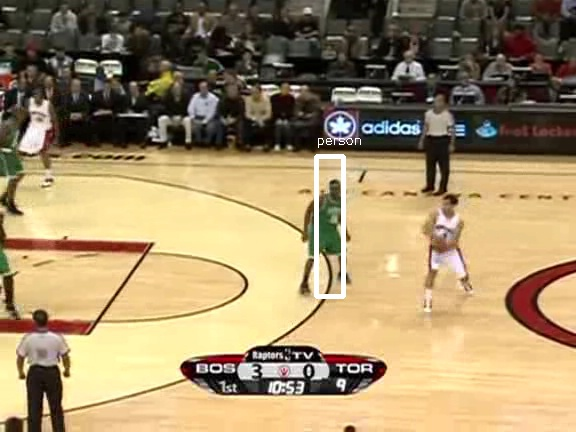person: (312, 189, 346, 270), (311, 189, 345, 270), (313, 189, 347, 270), (312, 188, 346, 269), (312, 190, 346, 271)
target_negative: (282, 46, 552, 243), (69, 151, 386, 276), (421, 107, 565, 187), (399, 367, 488, 414), (220, 300, 243, 406), (525, 386, 540, 424)
